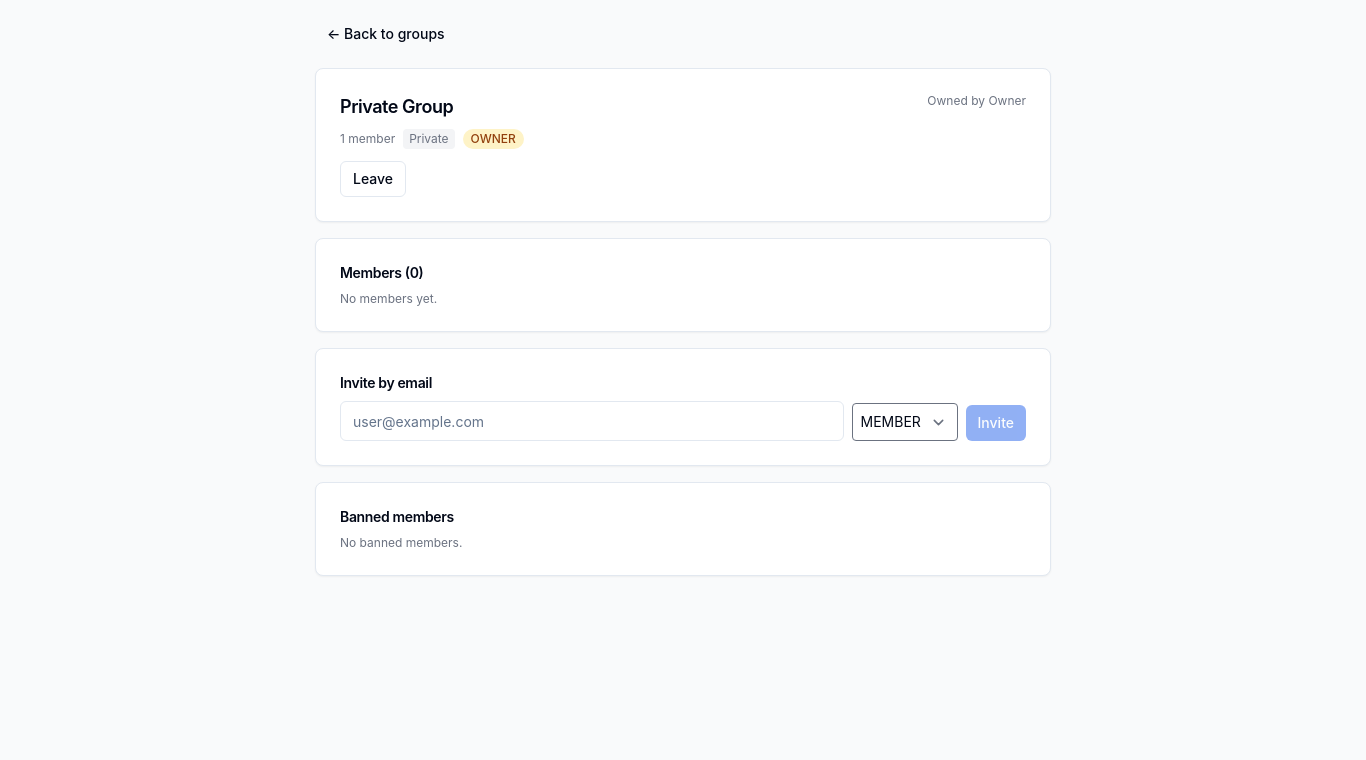
durable invite-link recovery › creating an invite › succeeds and stays recoverable when the clipboard is unavailable — with exactly one create request
The width and height of the screenshot is (1366, 760).
In the field with placeholder "user@example.com": (592, 421) x1=340 y1=401 x2=844 y2=441, type "new@test.com"
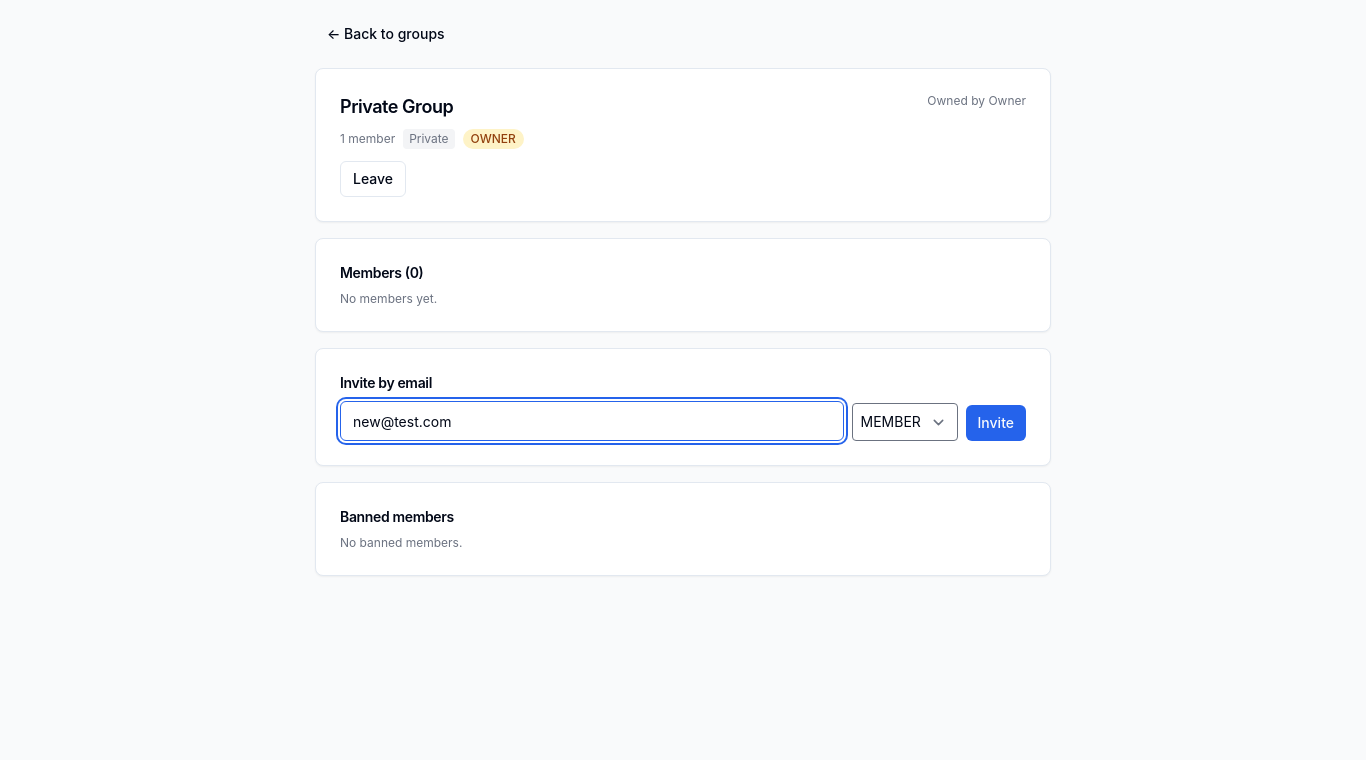
Click the button "Invite": (996, 423) x1=966 y1=405 x2=1026 y2=441
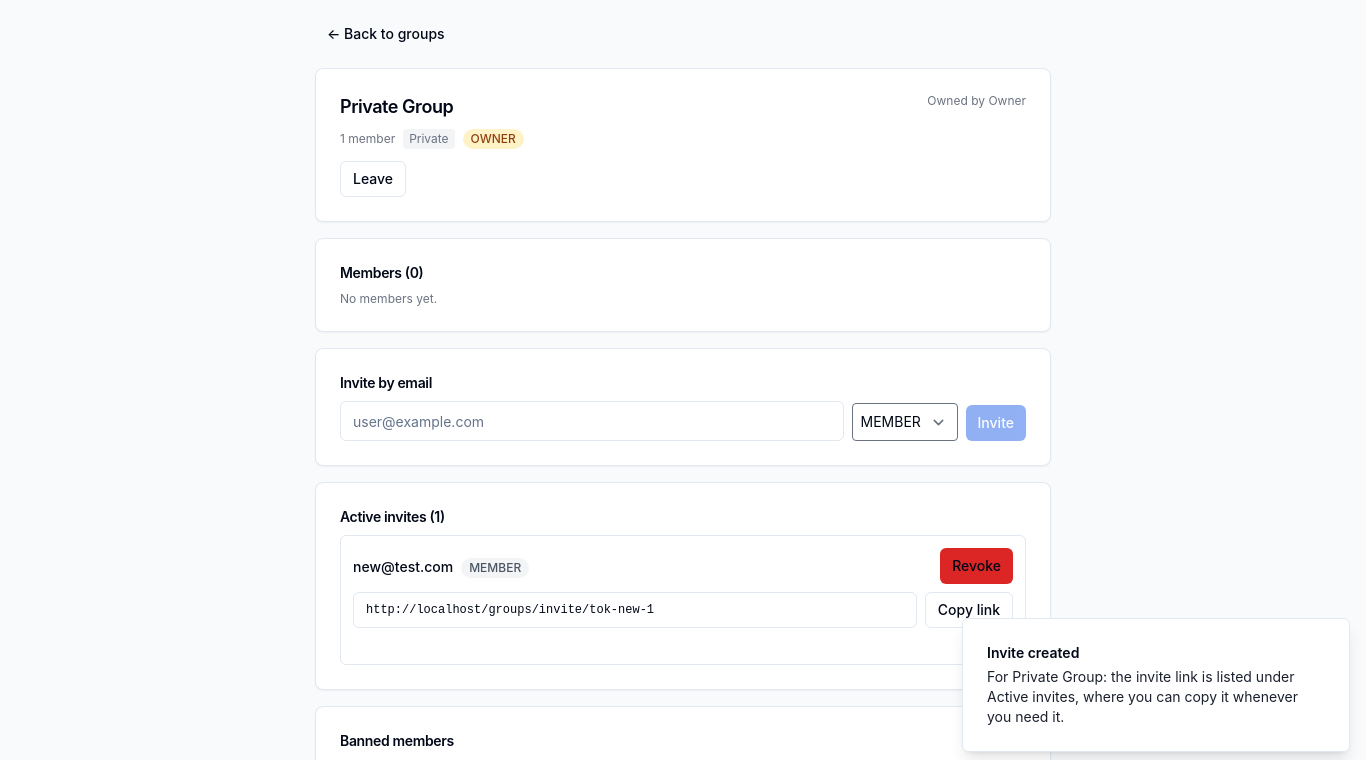
Now the heading "Active invites (1)" is shown, box x1=340 y1=508 x2=445 y2=525
